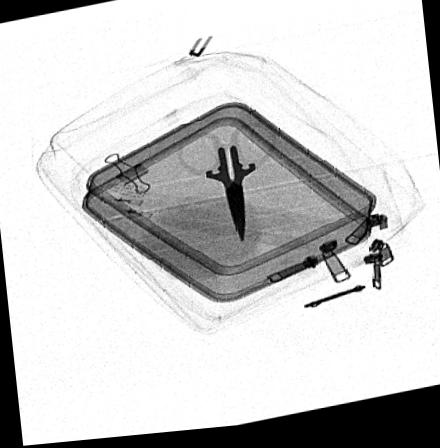Scissors: (172, 123, 278, 247)
